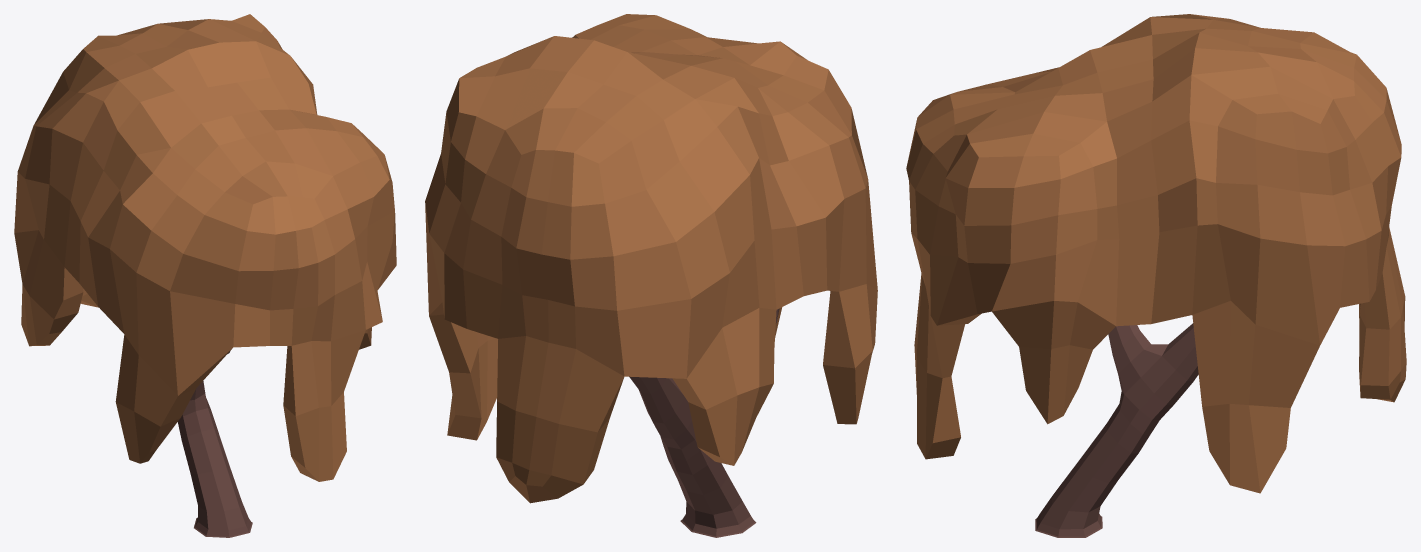
The model's file is Willow_Autumn_4-transformed.glb.
The picture shows the model from 3 angles, left to right: view 1: azimuth 30°, elevation 25°; view 2: azimuth 150°, elevation 25°; view 3: azimuth 270°, elevation 25°; orthographic projection. The views are drawn at different scales.
Visible parts, largest first — view 1: Willow_Autumn_4; view 2: Willow_Autumn_4; view 3: Willow_Autumn_4.
Boxes of the visible parts, x1,y1,x2,y2 form: Willow_Autumn_4: [14, 14, 396, 537]; Willow_Autumn_4: [425, 14, 877, 537]; Willow_Autumn_4: [906, 14, 1406, 537].
Size of the model in its own units: 2.19 by 3.39 by 3.04.
